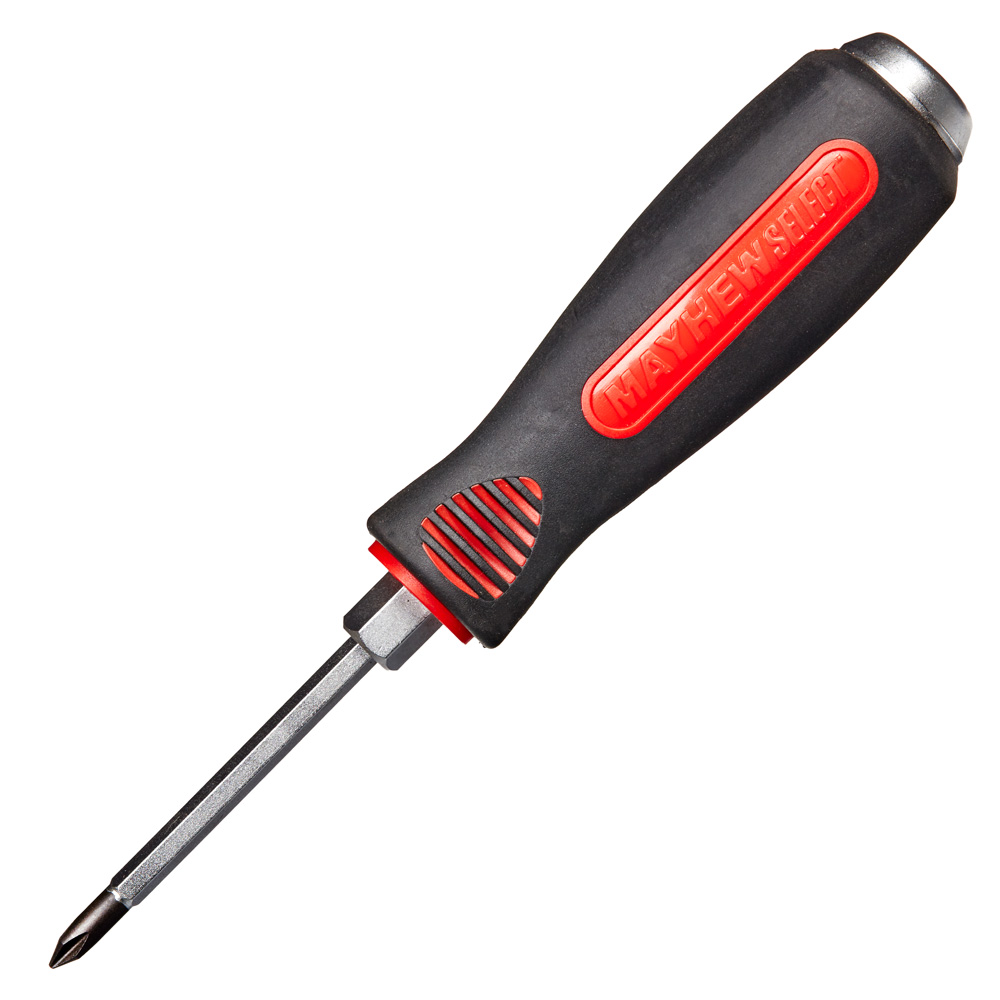screwdriver: (48, 26, 976, 971)
